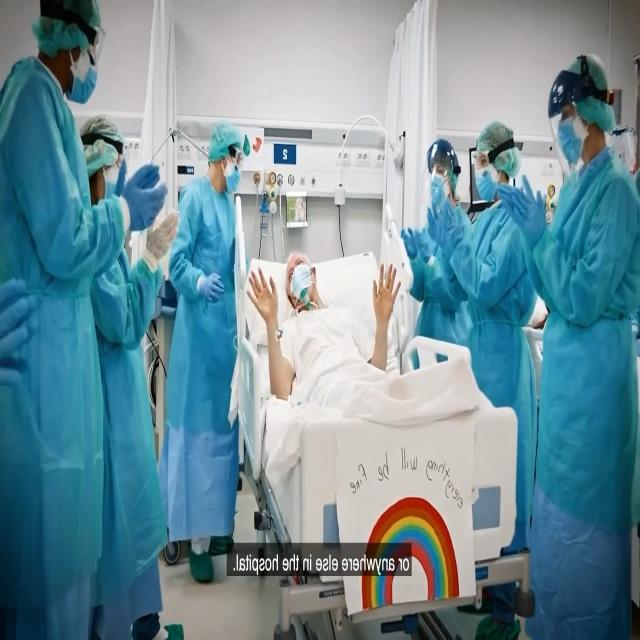Movement-Yes: (248, 222, 403, 413)
